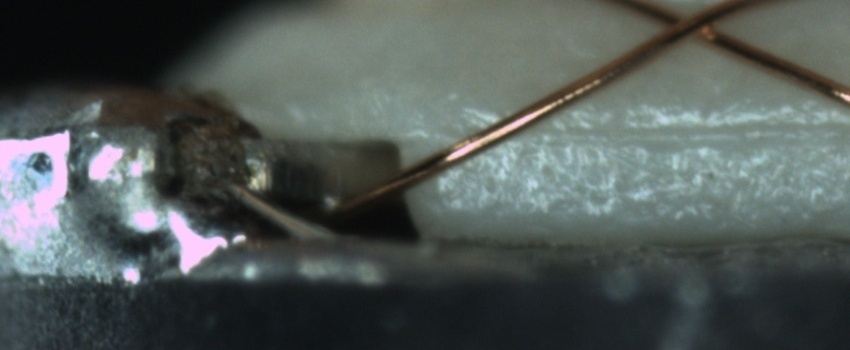CL: (650, 2, 735, 47)
DL: (449, 101, 849, 167)
